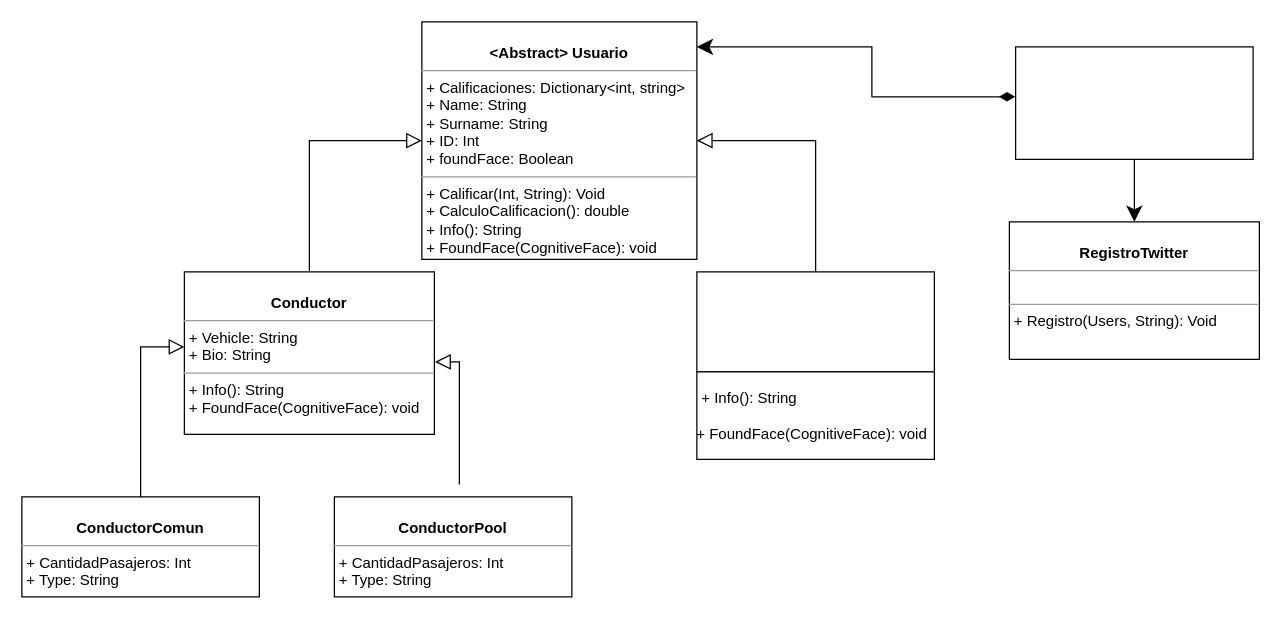
Some shapes in this 1281 by 619 pixel diagram are drawn without their labels. The shapes that lost their labels are listed below. From the top down, each one's centre as x and y in pixels, then its label:
pixel 1133 102: RideShare + Users: List<Usters> + Add(Users, String): Void
pixel 815 321: Pasajero
